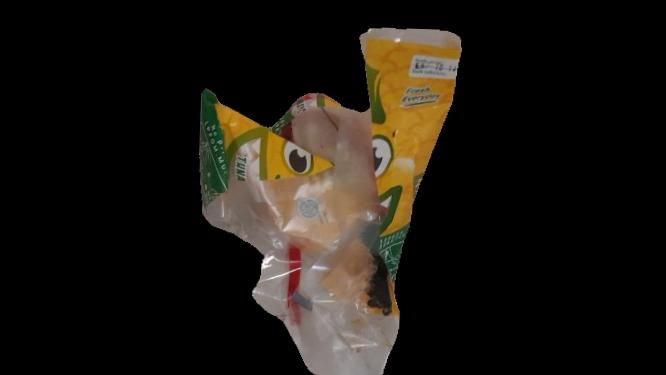Plastik: (184, 11, 465, 375)
